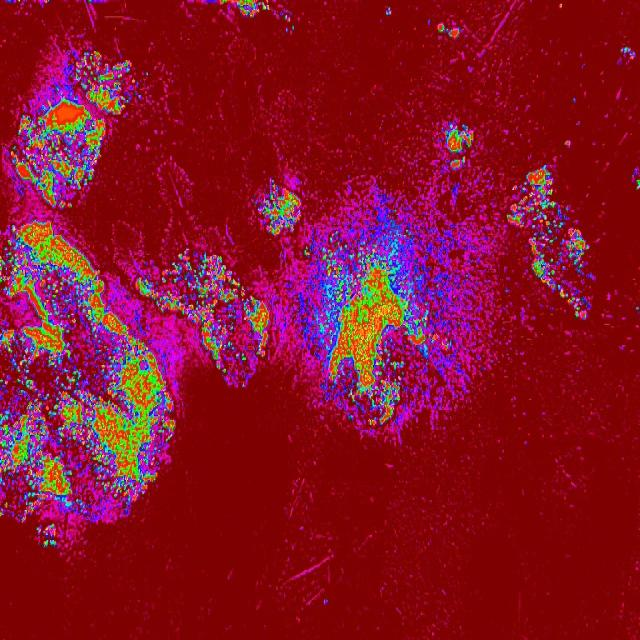fire: (296, 180, 472, 434), (0, 316, 138, 525), (10, 47, 138, 208), (136, 250, 270, 390), (504, 160, 595, 326), (0, 216, 118, 316), (138, 389, 177, 496), (252, 176, 302, 232), (442, 120, 476, 171), (222, 0, 271, 20), (36, 525, 60, 551), (616, 42, 638, 68), (435, 22, 461, 42), (280, 13, 296, 36), (628, 168, 640, 196), (322, 596, 332, 606), (84, 0, 107, 4), (385, 6, 394, 16), (563, 139, 571, 150), (632, 304, 640, 312), (571, 96, 577, 105), (144, 72, 150, 78), (43, 0, 51, 4), (16, 0, 22, 5), (558, 3, 564, 8)
